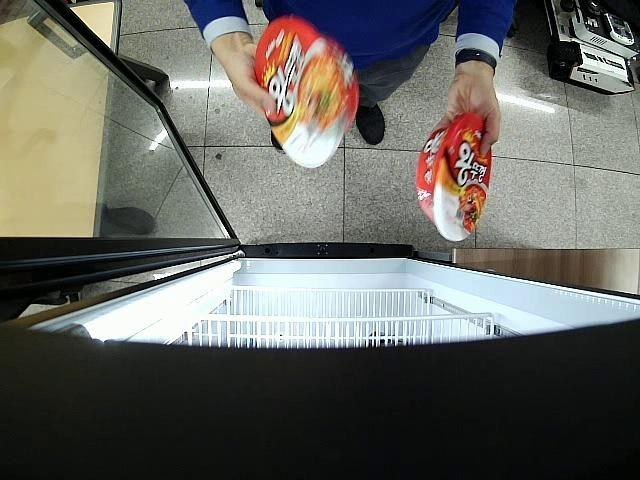10_wangTtukkeong: (255, 17, 358, 168), (417, 112, 492, 242)
